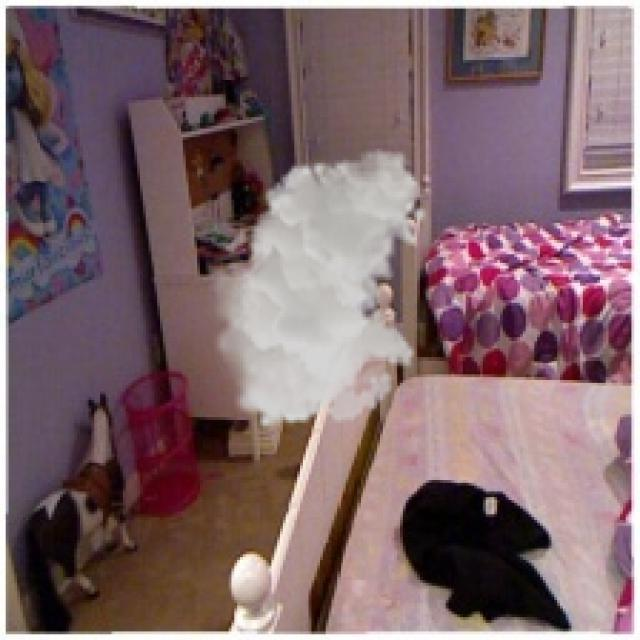Smoke: (205, 148, 428, 432)
